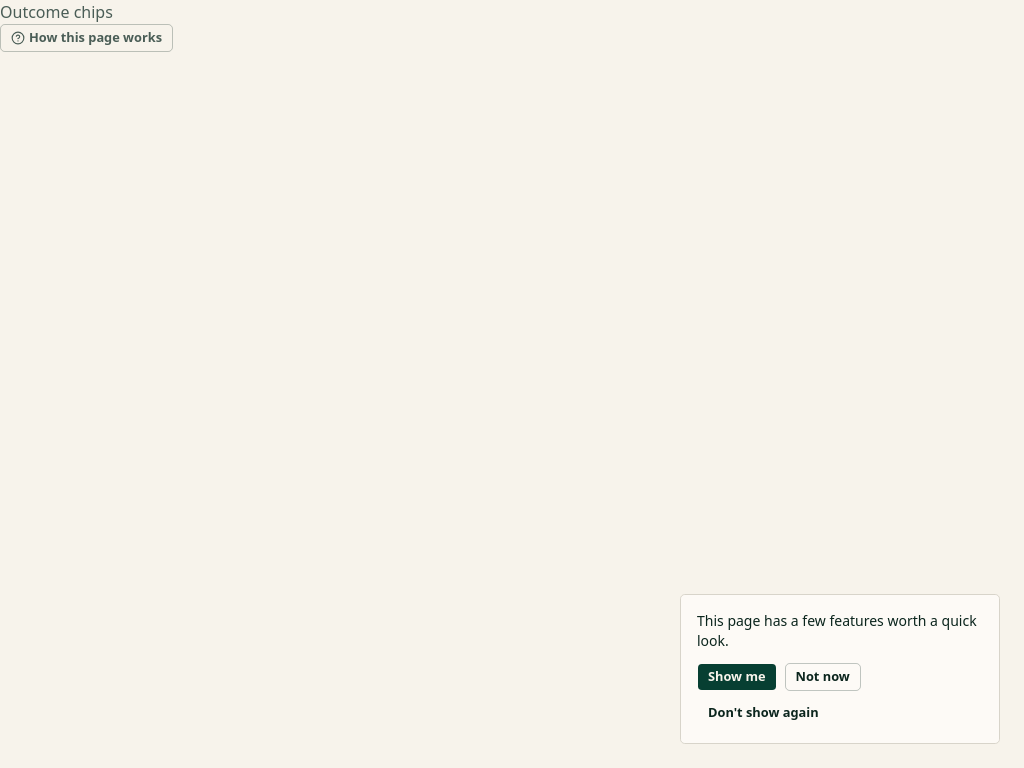
Test: PageGuide › walks through the steps and puts focus back on the button
Click the button "How this page works" at x=87, y=38, box [0,24,173,52]
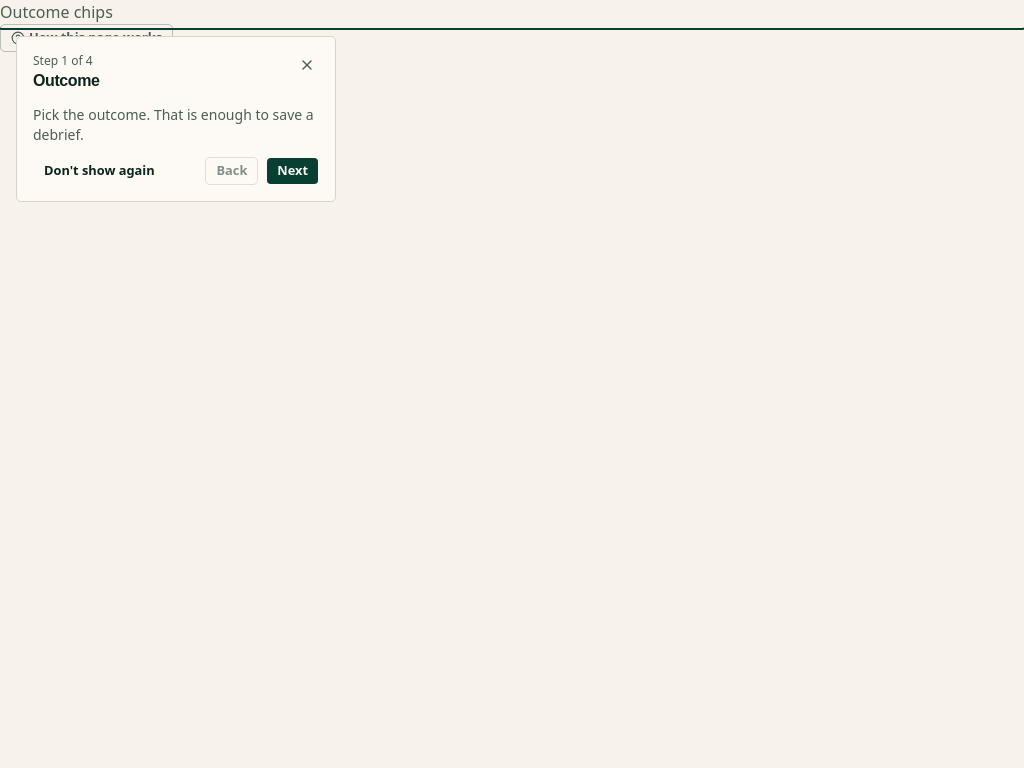
Now the button "Back" is disabled, box [206,157,258,185]
Click the button "Next" at x=293, y=171, box [266,157,319,185]
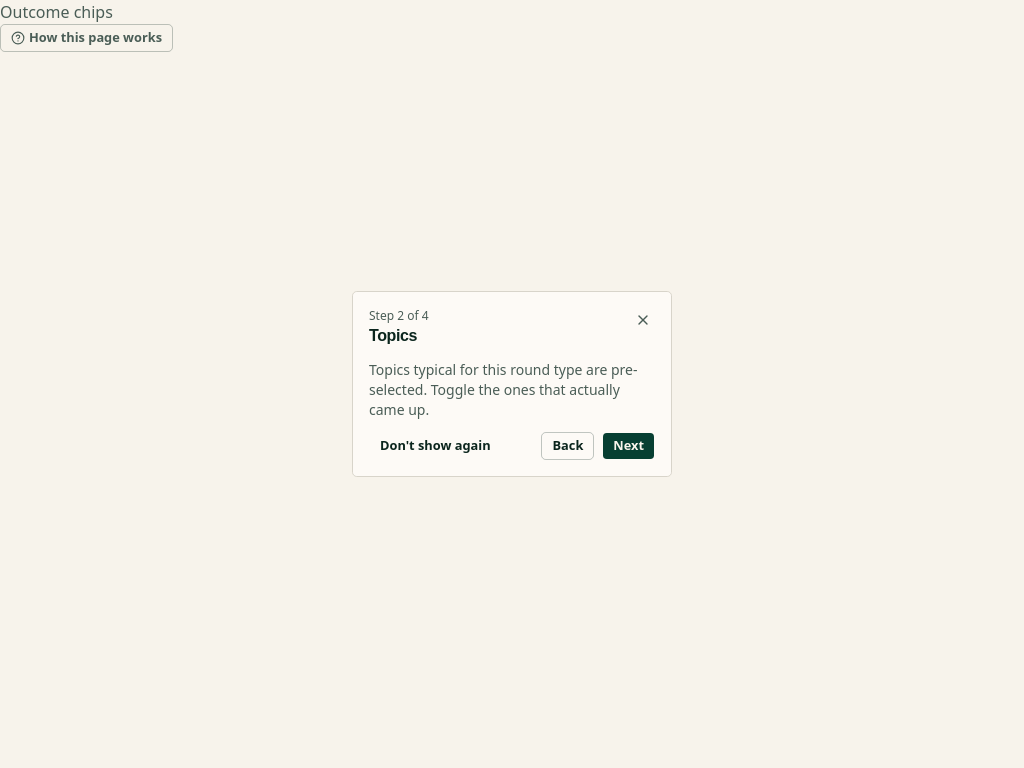
Now the dialog named "Writing a debrief" shows "Topics", box [369,327,417,344]
Press Escape
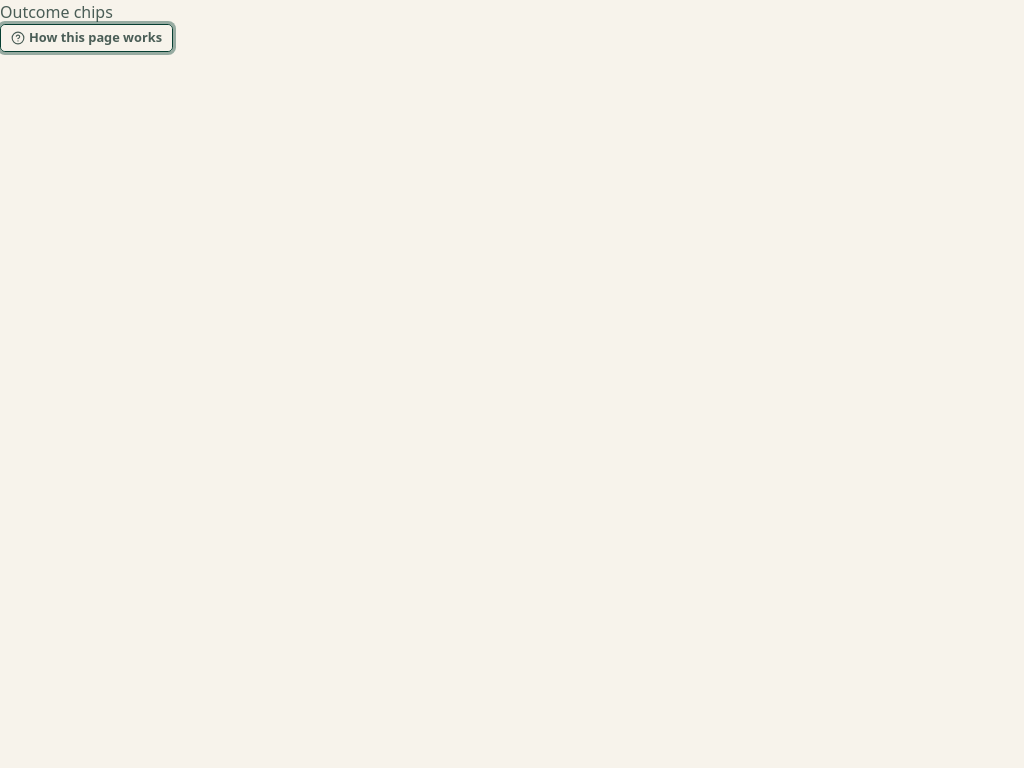
Now the dialog is gone
